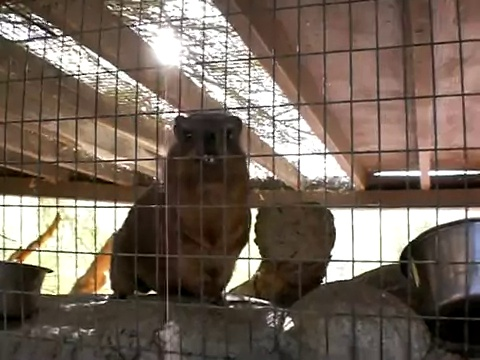Rock Hyrex: (106, 109, 254, 316)
